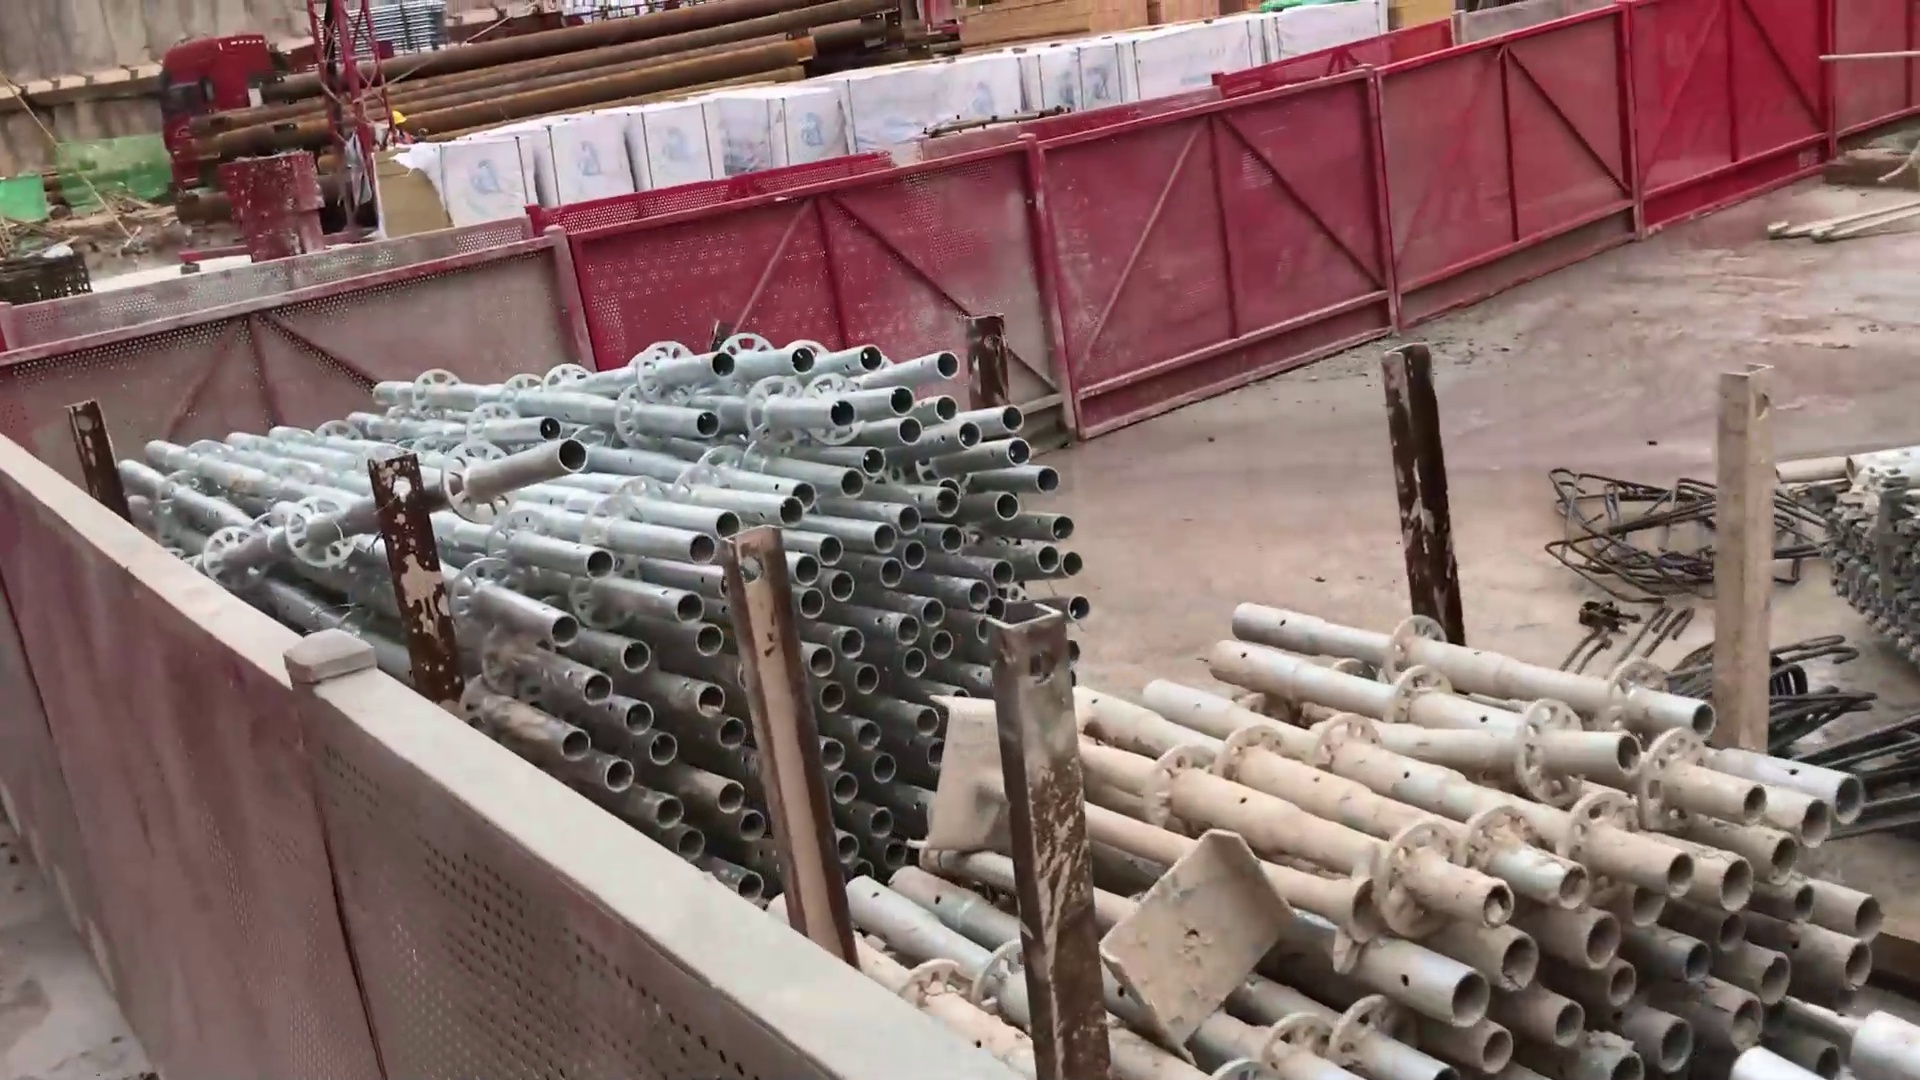fence: (1030, 3, 1629, 447)
scaffold: (922, 618, 1888, 1080), (229, 345, 1063, 839)
wood: (953, 1, 1160, 57)
